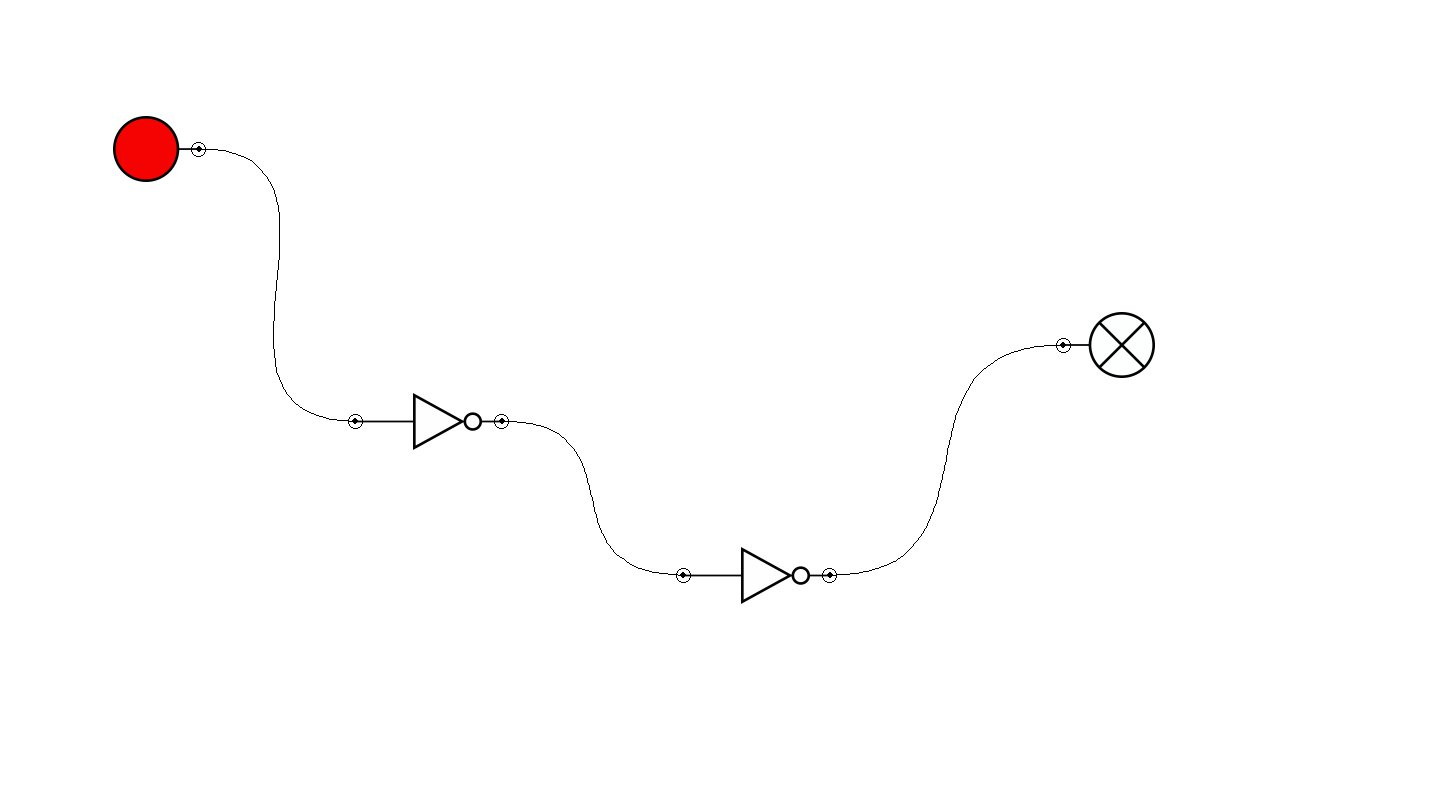bulb: (1056, 312, 1155, 378)
not: (676, 547, 837, 604), (348, 393, 509, 450)
switch_False: (113, 116, 206, 182)
